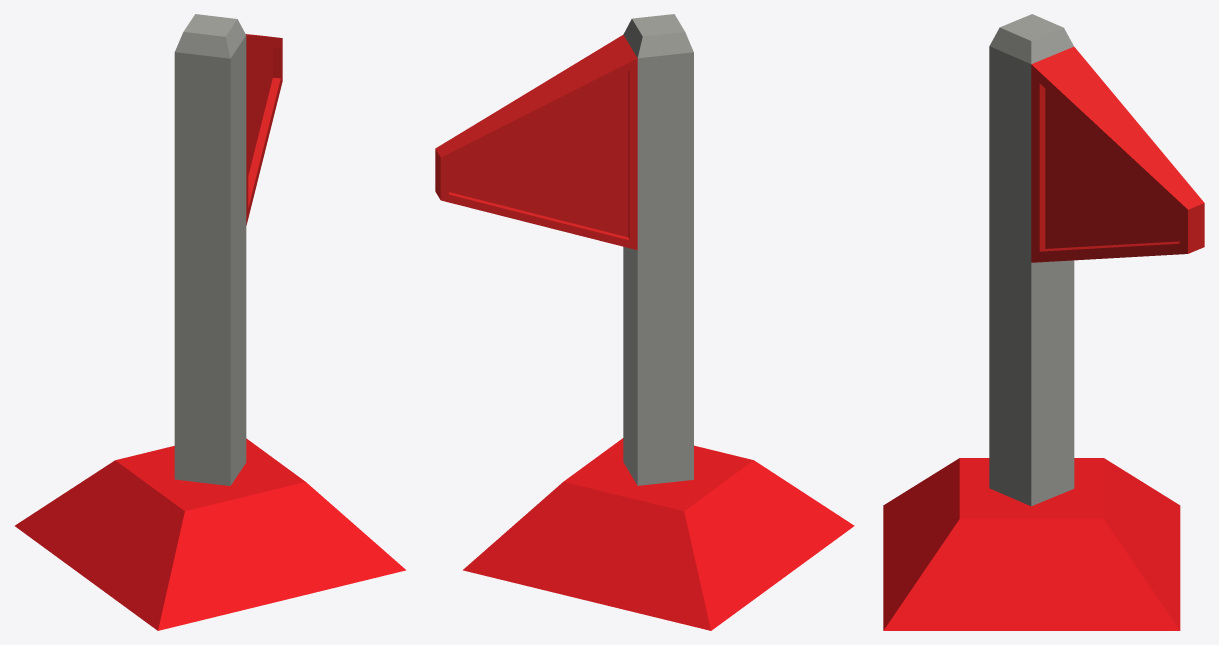
File: RaodBeacon.fbx
The picture shows the model from 3 angles, left to right: view 1: azimuth 30°, elevation 25°; view 2: azimuth 150°, elevation 25°; view 3: azimuth 270°, elevation 25°; orthographic projection. The views are drawn at different scales.
Parts seen in each view (by area): view 1: Cube; view 2: Cube; view 3: Cube.
Boxes of the visible parts, bbox=[...] form: Cube: bbox=[15, 14, 405, 630]; Cube: bbox=[435, 14, 854, 630]; Cube: bbox=[883, 14, 1204, 630].
Size of the model in its own units: 450 by 826 by 445.
